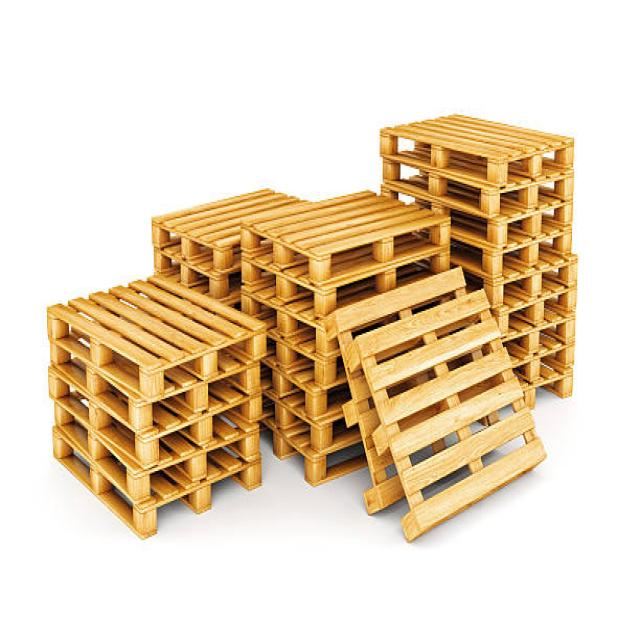Wooden-Pallets: (352, 284, 548, 541), (41, 274, 273, 405), (45, 428, 267, 544), (238, 190, 453, 284), (375, 109, 578, 187)
